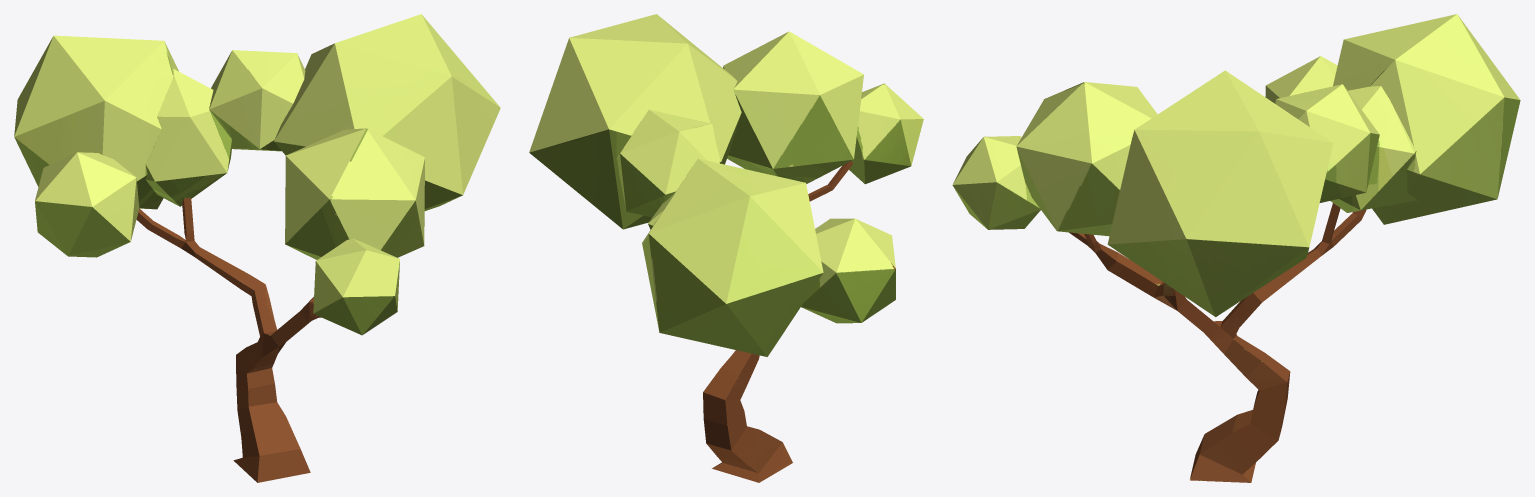
The model's file is Large Tree.fbx.
3 renders of one model, left to right at view 1: azimuth 30°, elevation 25°; view 2: azimuth 150°, elevation 25°; view 3: azimuth 270°, elevation 25°, orthographic. The views are drawn at different scales.
Visible parts, largest first — view 1: Large Tree; view 2: Large Tree; view 3: Large Tree.
Boxes of the visible parts, <box> form: Large Tree: <box>14,14,500,482</box>; Large Tree: <box>529,14,923,482</box>; Large Tree: <box>952,14,1520,482</box>.
Size of the model in its own units: 1462 by 1416 by 1691.
